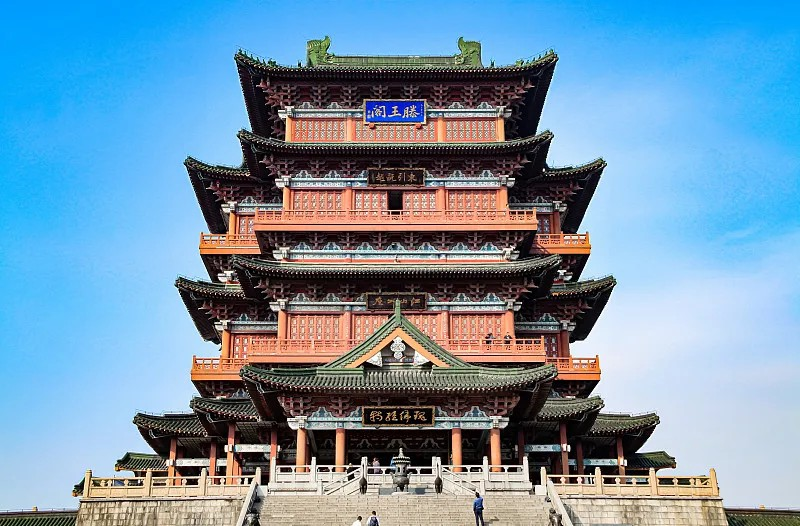Teng: (117, 37, 675, 475)
